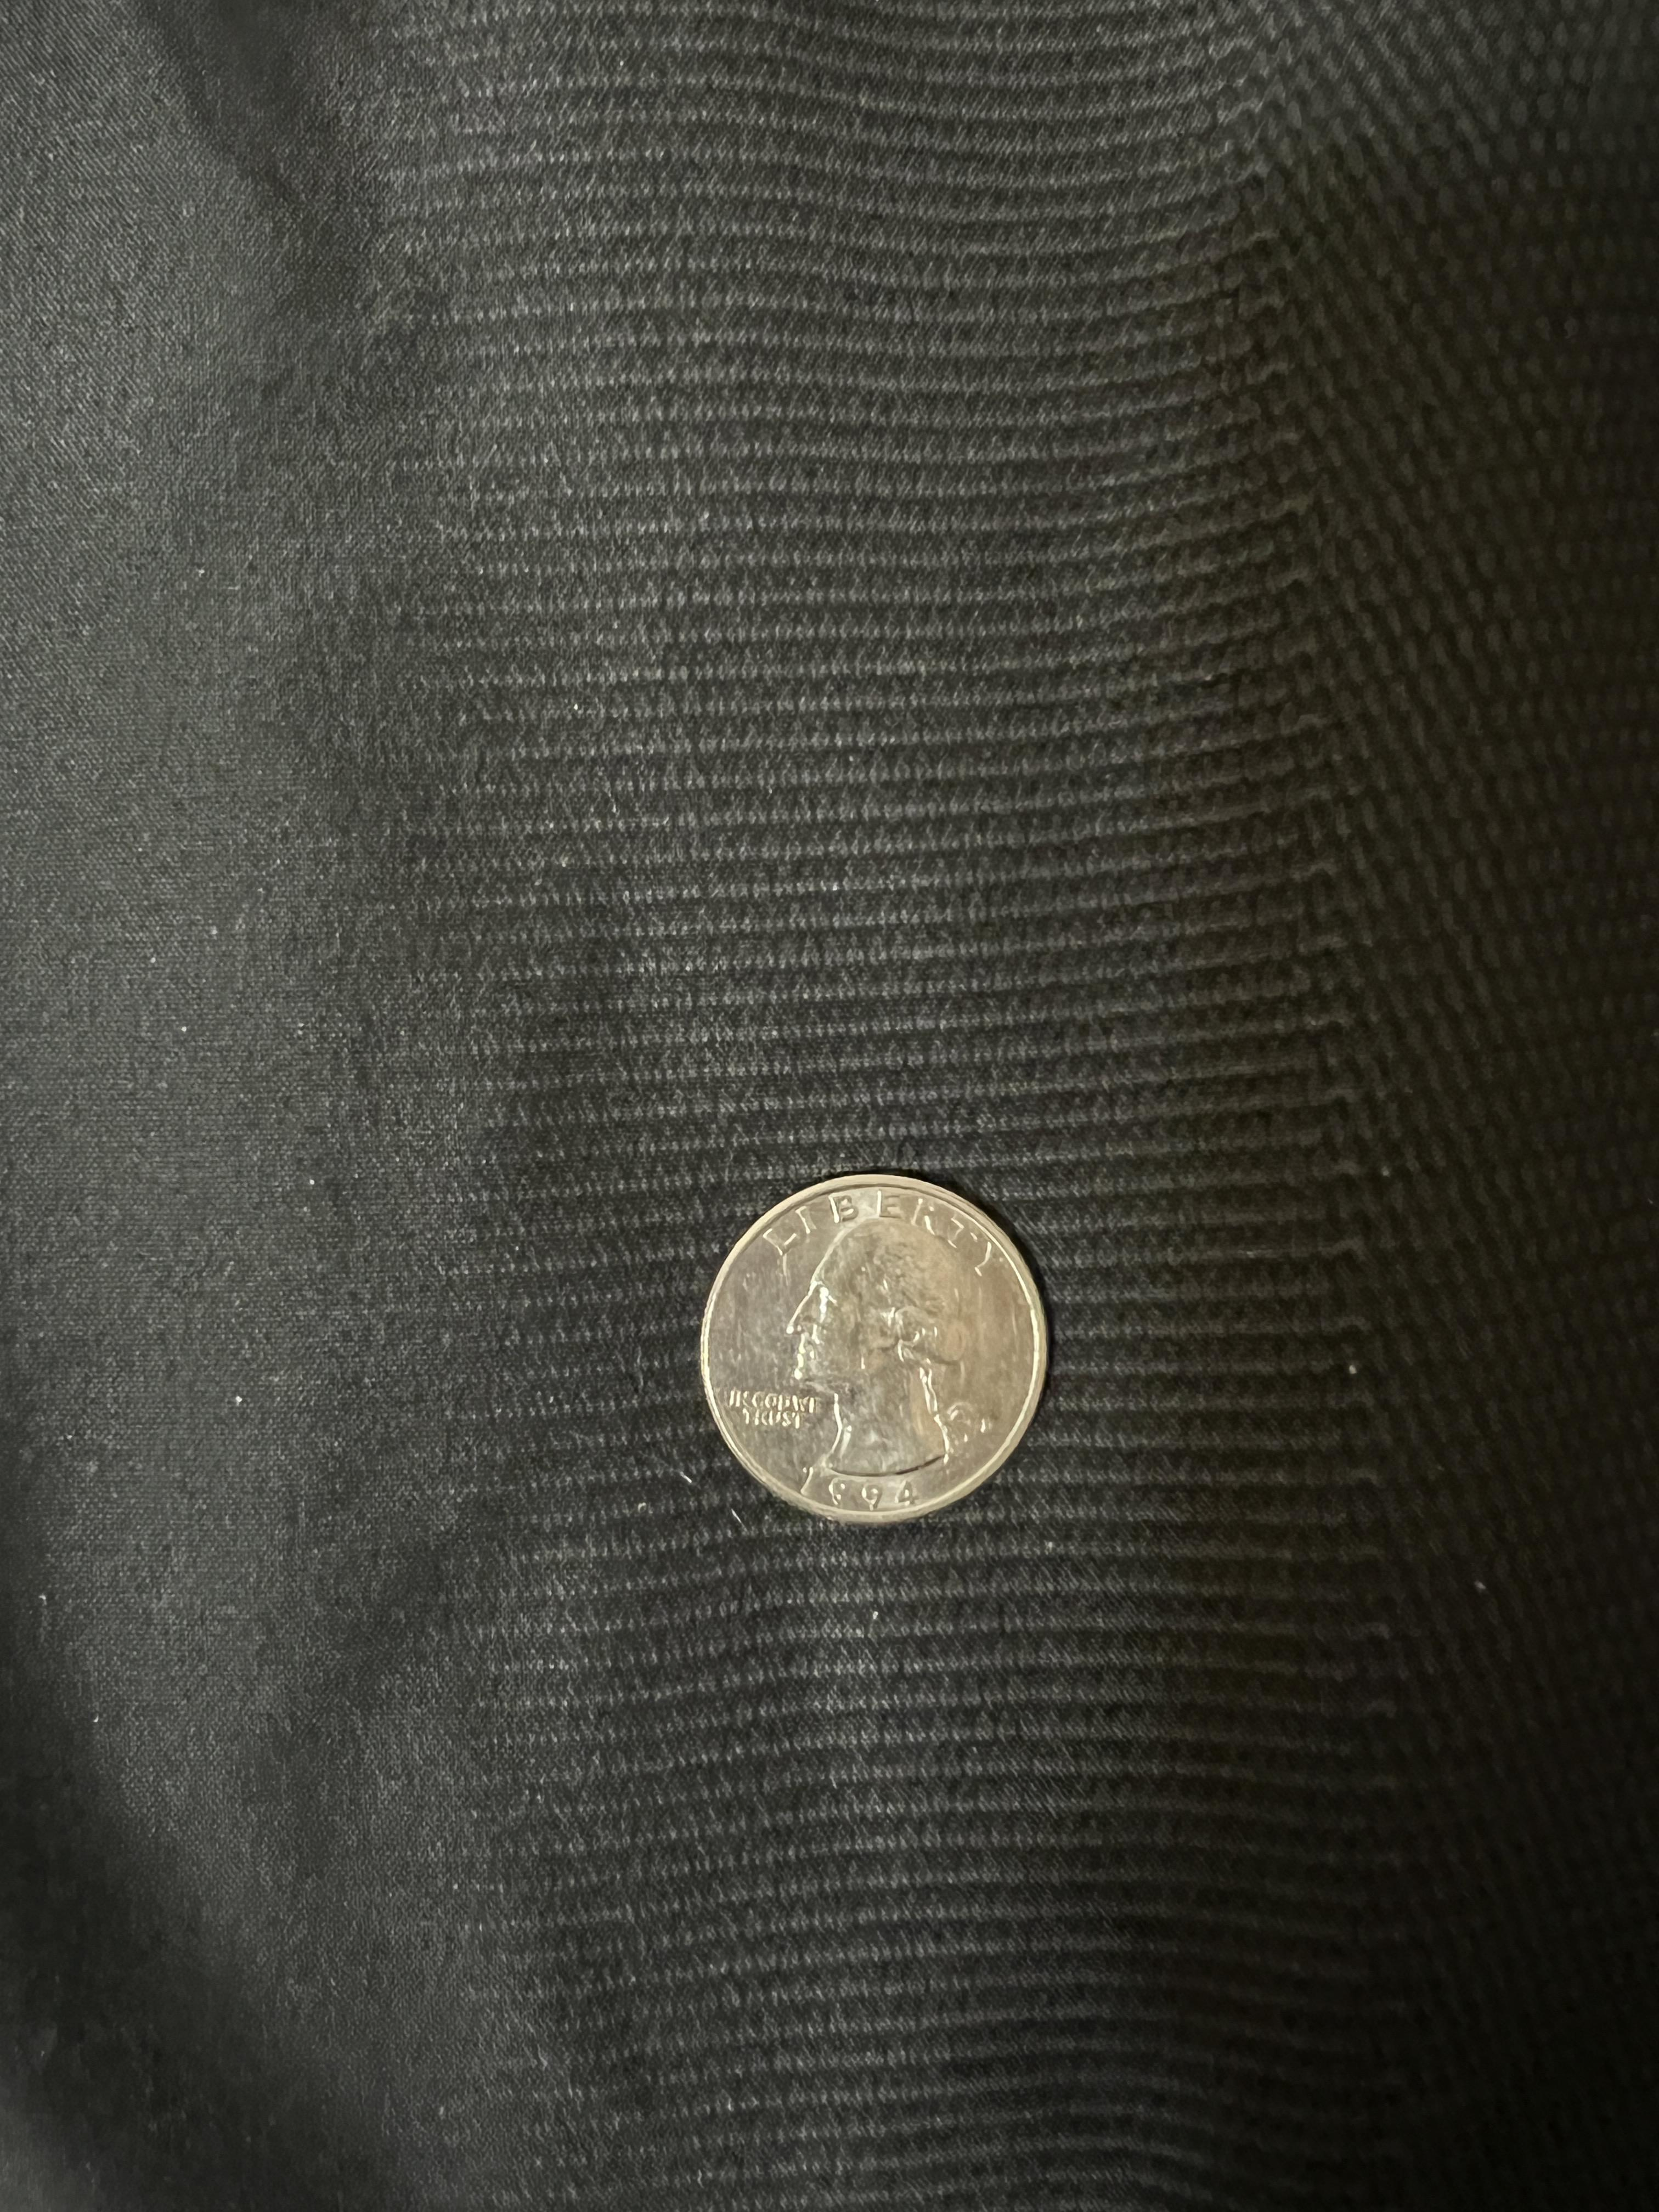Quarter: (690, 1162, 1054, 1534)
